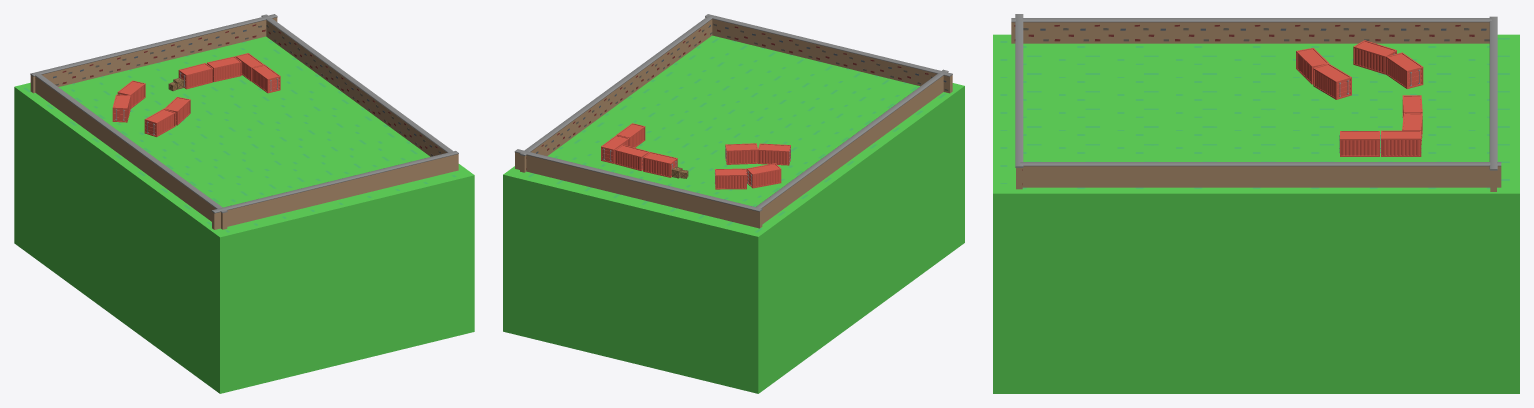
3 renders of one model, left to right at view 1: azimuth 30°, elevation 25°; view 2: azimuth 150°, elevation 25°; view 3: azimuth 270°, elevation 25°, orthographic. The views are drawn at different scales.
Visible parts, largest first — view 1: Ground, Wall.002, Wall.003, Wall, Wall.001, ShippingContainer.004, ShippingContainer.003, ShippingContainer.002, ShippingContainer.001, ShippingContainer.006, ShippingContainer.005, ShippingContainer.007; view 2: Ground, Wall.003, Wall.002, Wall, Wall.001, ShippingContainer.006, ShippingContainer.007, ShippingContainer.004, ShippingContainer.005, ShippingContainer.003, ShippingContainer.002, ShippingContainer (+1 smaller); view 3: Ground, Wall.001, Wall, Wall.002, Wall.003, ShippingContainer, ShippingContainer.007, ShippingContainer.001, ShippingContainer.005, ShippingContainer.006, ShippingContainer.004.
Part boxes in pixels (x1,y1,x2,y2): Ground: (14,36,474,393); Wall.002: (211,151,458,229); Wall.003: (30,14,277,93); Wall: (35,73,227,229); Wall.001: (261,14,453,156); ShippingContainer.004: (144,108,175,137); ShippingContainer.003: (178,63,212,89); ShippingContainer.002: (207,56,241,81); ShippingContainer.001: (252,64,280,93); ShippingContainer.006: (112,94,130,122); ShippingContainer.005: (117,80,145,108); ShippingContainer.007: (164,97,190,125); Ground: (503,35,964,393); Wall.003: (514,149,762,228); Wall.002: (705,14,952,93); Wall: (755,69,948,224); Wall.001: (519,16,712,172); ShippingContainer.006: (746,163,781,188); ShippingContainer.007: (725,143,757,164); ShippingContainer.004: (758,143,790,165); ShippingContainer.005: (715,168,746,189); ShippingContainer.003: (643,152,677,177); ShippingContainer.002: (614,144,649,170); ShippingContainer: (601,135,629,163); Ground: (993,34,1519,393); Wall.001: (1020,162,1501,187); Wall: (1011,18,1491,43); Wall.002: (1015,14,1023,189); Wall.003: (1489,16,1497,191); ShippingContainer: (1381,130,1421,156); ShippingContainer.007: (1313,63,1351,99); ShippingContainer.001: (1340,131,1379,156); ShippingContainer.005: (1386,52,1423,88); ShippingContainer.006: (1353,40,1396,74); ShippingContainer.004: (1296,48,1329,84).
Size of the model in its own units: 56.33 by 36.85 by 78.86.
10 materials, 1 textured.
